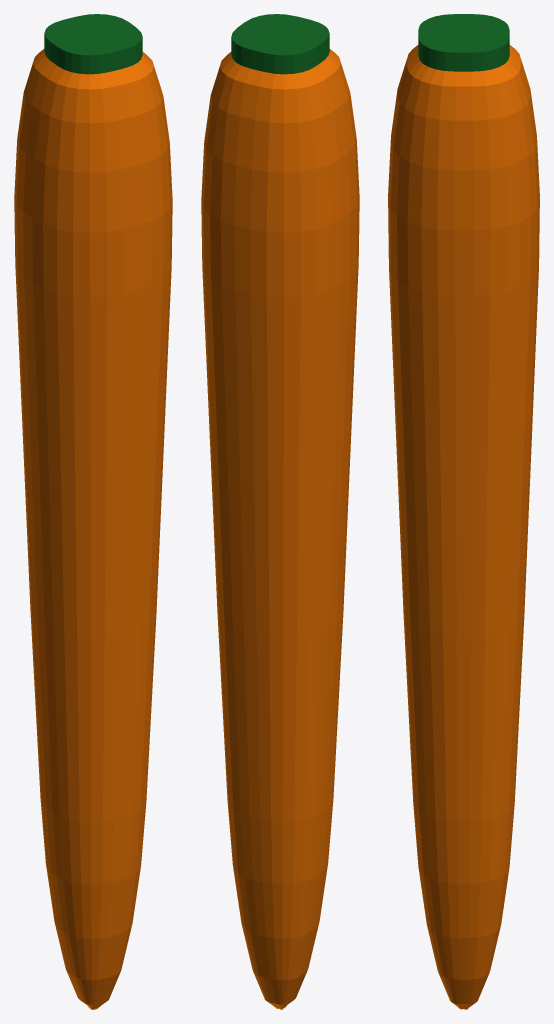
Rendered from Karotte.fbx.
The picture shows the model from 3 angles, left to right: view 1: azimuth 30°, elevation 25°; view 2: azimuth 150°, elevation 25°; view 3: azimuth 270°, elevation 25°; orthographic projection.
Parts seen in each view (by area): view 1: Cube; view 2: Cube; view 3: Cube.
Boxes of the visible parts, bbox=[...] form: Cube: bbox=[14, 14, 172, 1009]; Cube: bbox=[201, 14, 359, 1009]; Cube: bbox=[388, 14, 539, 1009].
Size of the model in its own units: 11.34 by 80.38 by 11.34.
